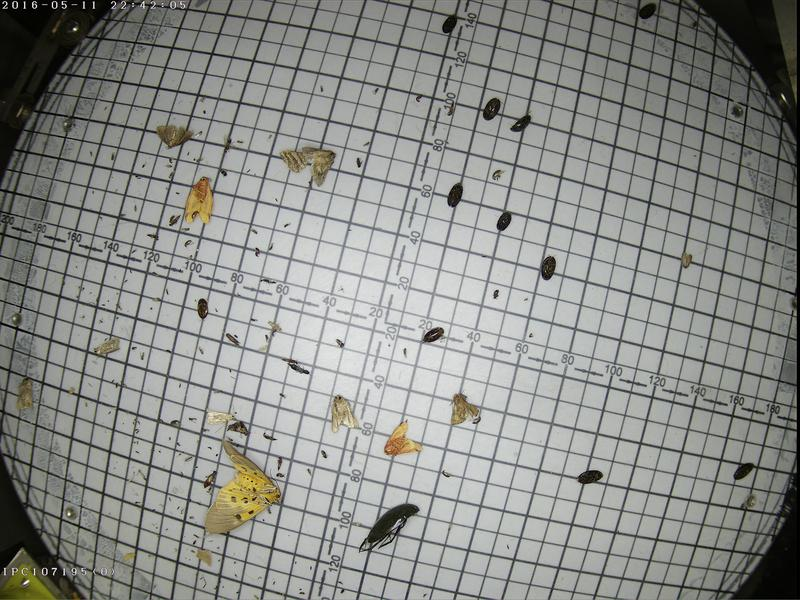Spodoptera exigua: (91, 338, 120, 355)
